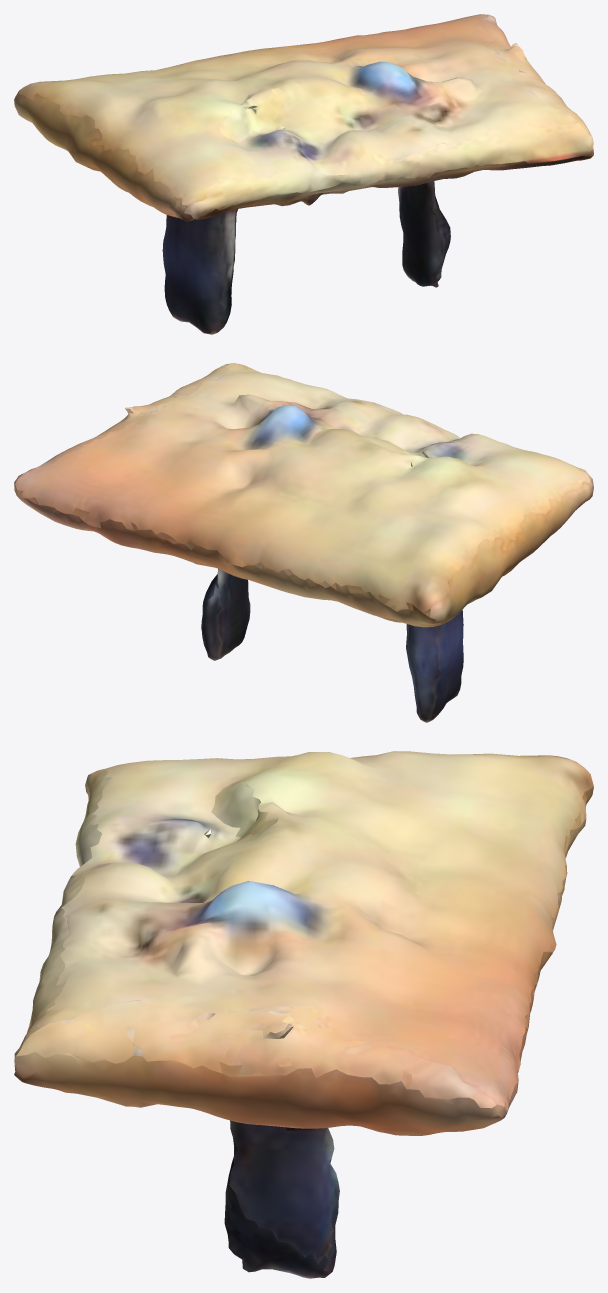
The model's file is 8_desk.glb.
3 renders of one model, top to bottom at view 1: azimuth 30°, elevation 25°; view 2: azimuth 150°, elevation 25°; view 3: azimuth 270°, elevation 25°, orthographic. The views are drawn at different scales.
Parts seen in each view (by area): view 1: 8_desk; view 2: 8_desk; view 3: 8_desk.
Part boxes in pixels (<box>): 8_desk: <box>14,14,593,334</box>; 8_desk: <box>14,363,593,722</box>; 8_desk: <box>14,751,593,1278</box>.
Bounding box in the file's own units: 2.19 × 1.12 × 1.64.
1 material, 1 textured.
